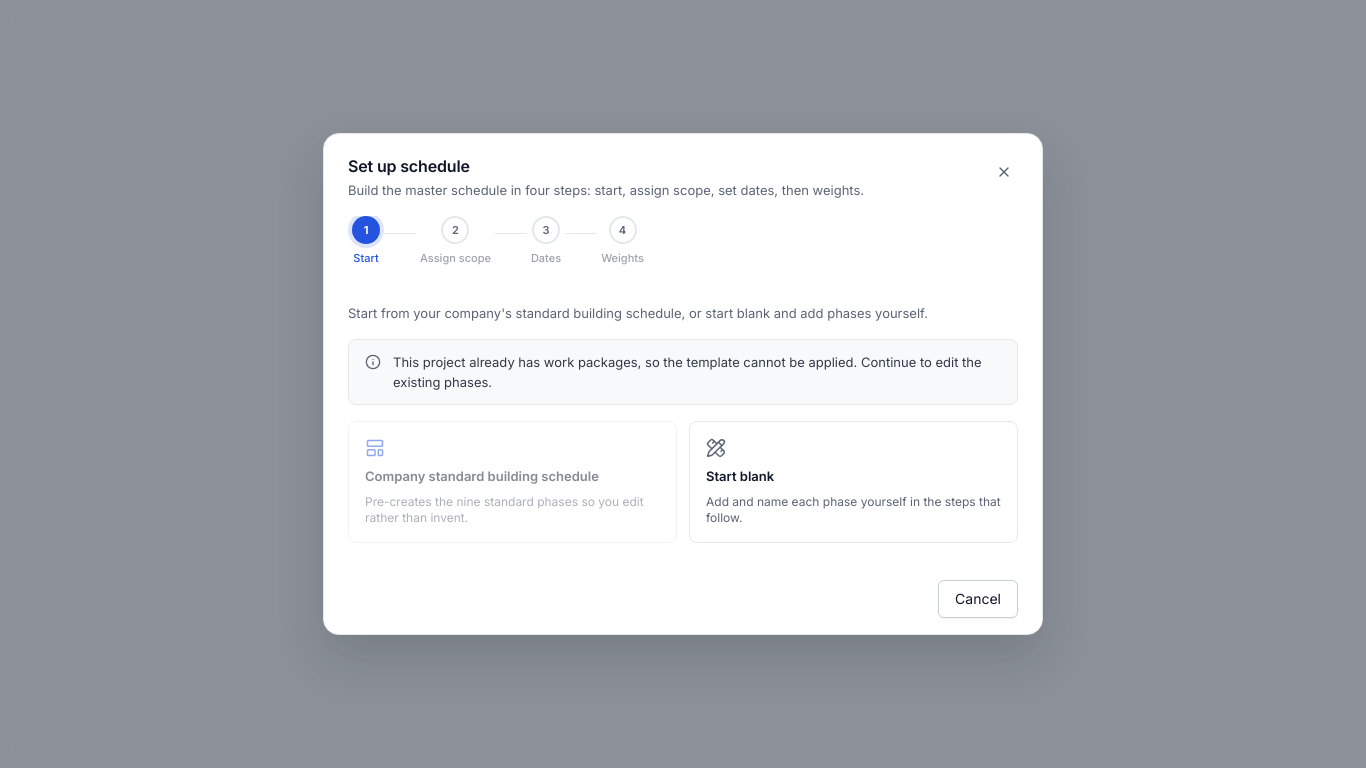
Test case: ScheduleSetupWizard › flags phases missing scope or dates on the review step
The image size is (1366, 768).
What coordinates should you click on to do the following:
click the text "Start blank"
I would click on:
 (740, 476)
Its box is x1=706 y1=466 x2=774 y2=486.
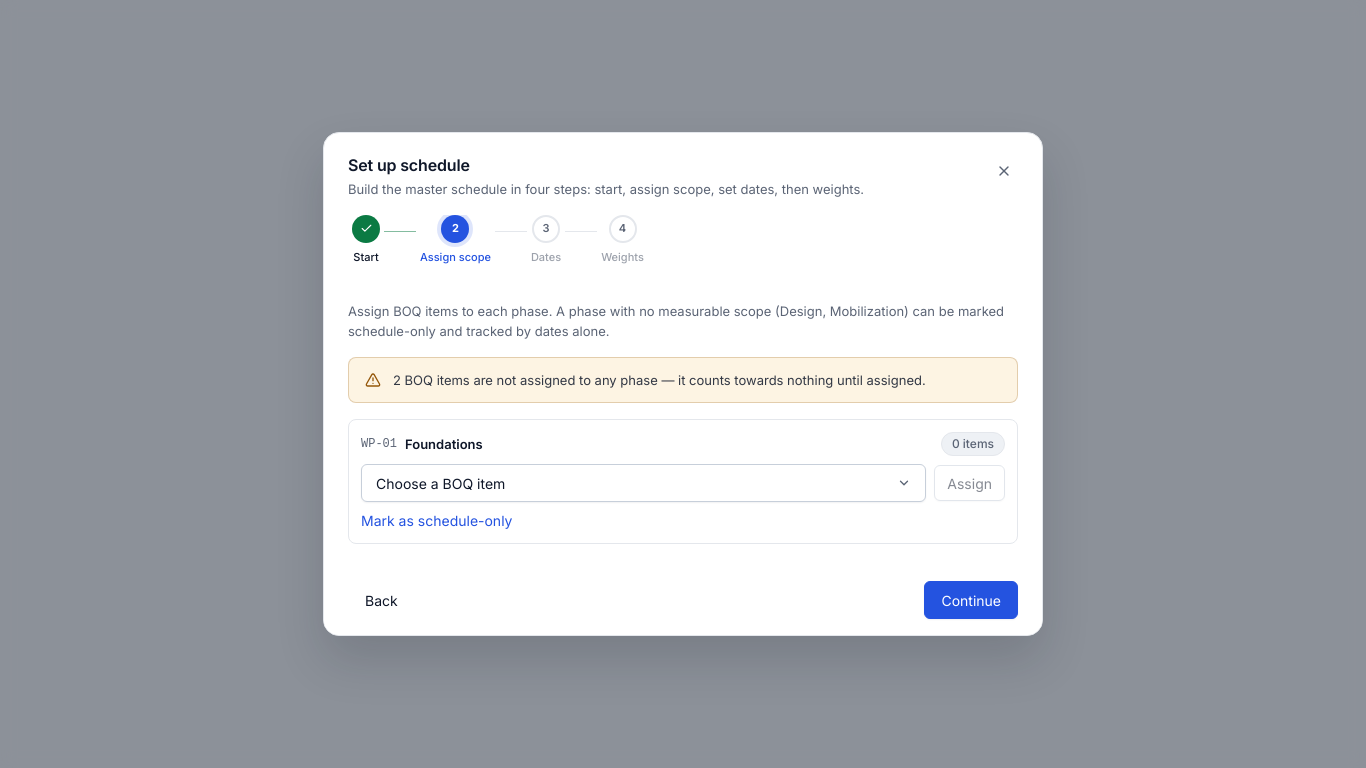
What coordinates should you click on to do the following:
click the button "Continue"
I would click on:
 (971, 600)
Its box is x1=924 y1=581 x2=1018 y2=619.
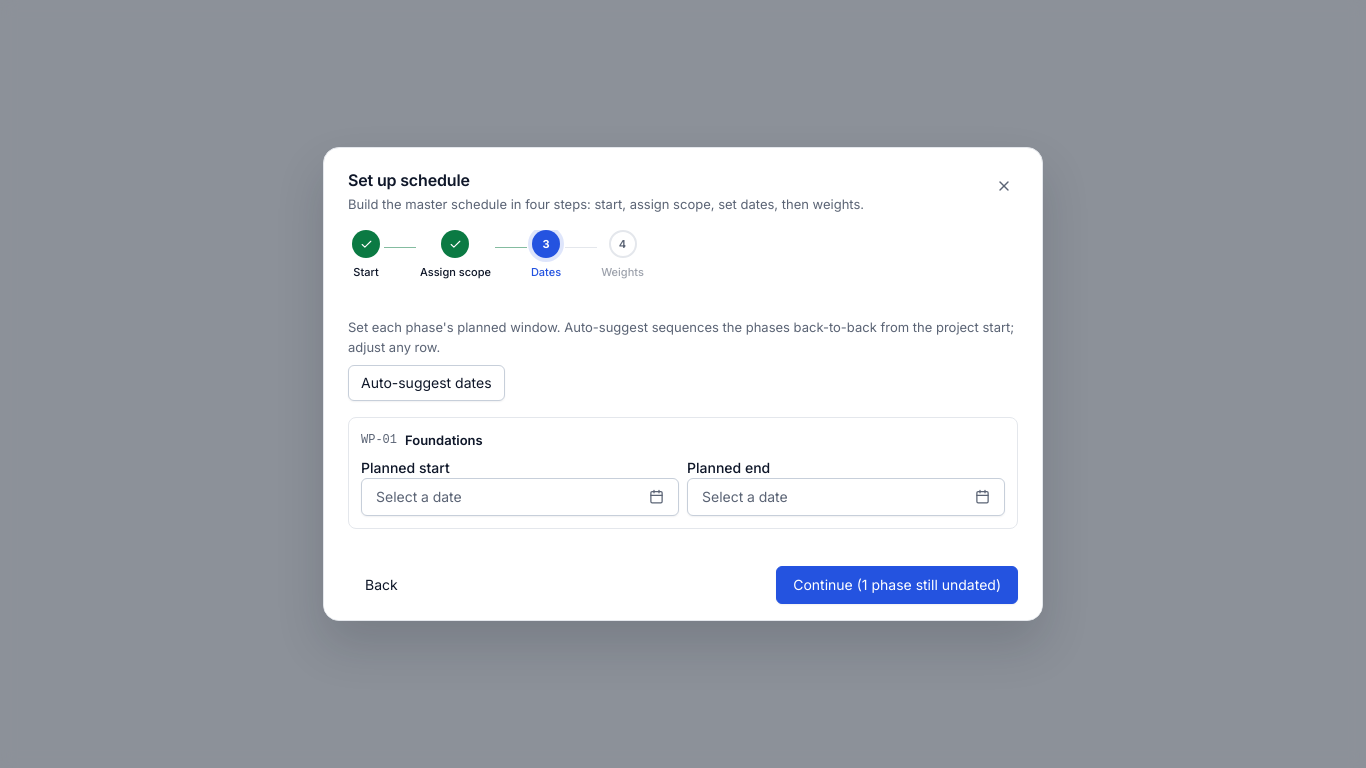
What coordinates should you click on to do the following:
click the button "Continue (1 phase still undated)"
I would click on:
 (897, 585)
Its box is x1=776 y1=566 x2=1018 y2=604.
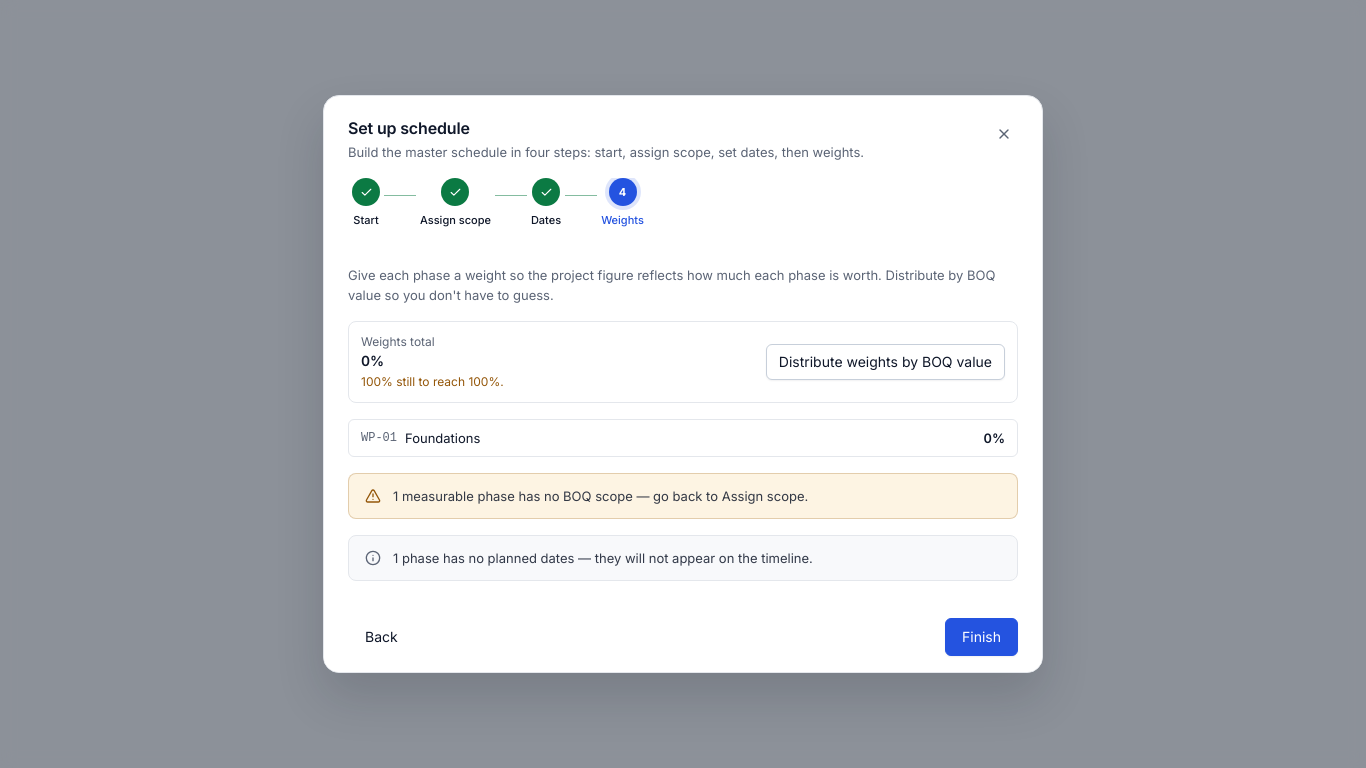
Now the text "1 measurable phase has no BOQ scope" is shown, box x1=393 y1=488 x2=808 y2=504
Now the text "1 phase has no planned dates" is shown, box x1=393 y1=550 x2=813 y2=566
